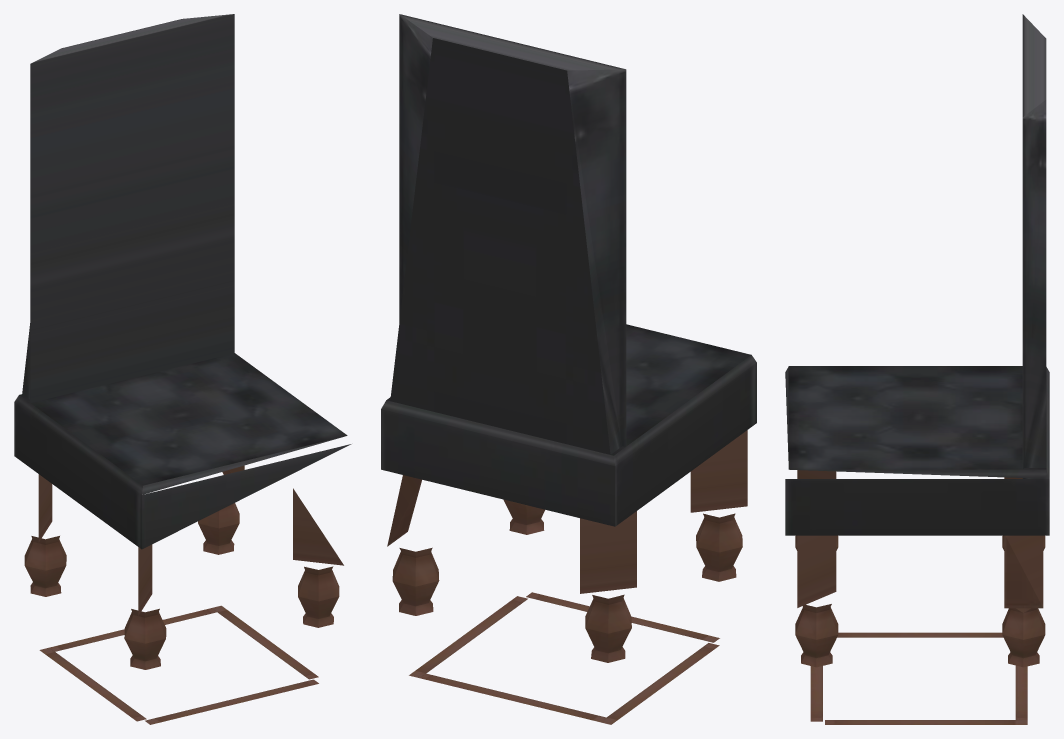
File: cove-chair-clean.glb
3 views of the same model, side by side, from view 1: azimuth 30°, elevation 25°; view 2: azimuth 150°, elevation 25°; view 3: azimuth 270°, elevation 25° (orthographic). The views are drawn at different scales.
Visible parts, largest first — view 1: Chair_orig; view 2: Chair_orig; view 3: Chair_orig.
Boxes of the visible parts, x1,y1,x2,y2 form: Chair_orig: (14, 14, 351, 724); Chair_orig: (381, 14, 756, 724); Chair_orig: (785, 14, 1049, 724).
Bounding box in the file's own units: 15.51 × 40.77 × 15.94.
Materials: 1 (1 with a texture image).
